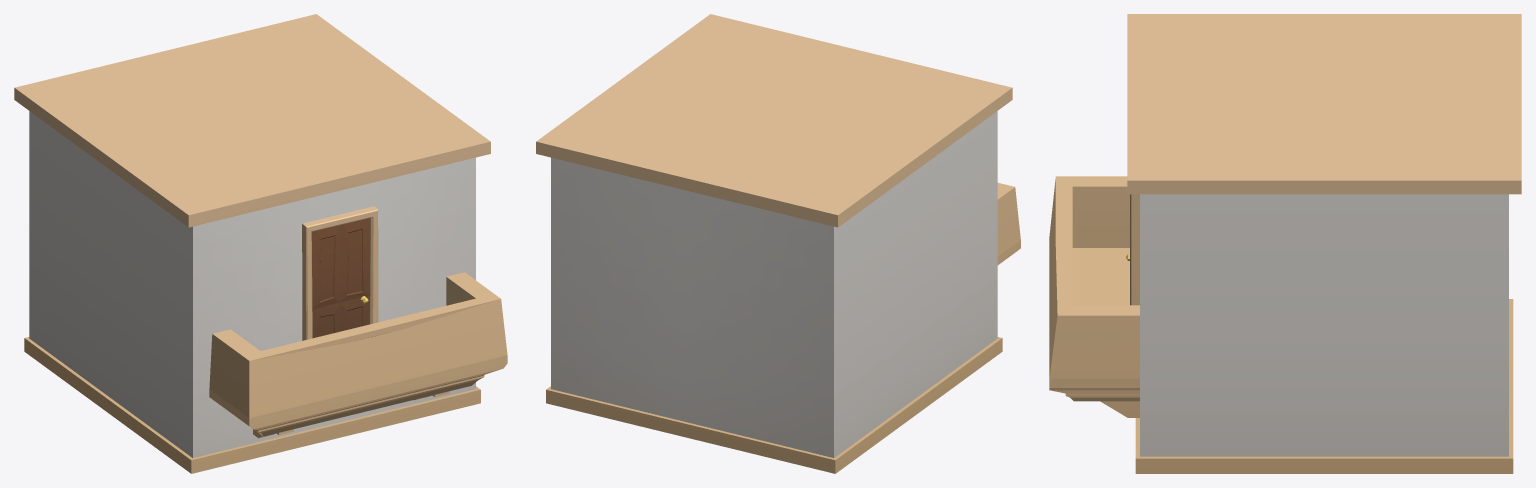
The model's file is Room 06.fbx.
3 views of the same model, side by side, from view 1: azimuth 30°, elevation 25°; view 2: azimuth 150°, elevation 25°; view 3: azimuth 270°, elevation 25° (orthographic). The views are drawn at different scales.
Parts seen in each view (by area): view 1: Room 06 high, Room 06 low, Room 06; view 2: Room 06 high, Room 06 low; view 3: Room 06 high, Room 06 low, Room 06.
Boxes of the visible parts, x1,y1,x2,y2 form: Room 06 high: [14, 14, 507, 473]; Room 06 low: [209, 229, 507, 436]; Room 06: [249, 218, 506, 432]; Room 06 high: [536, 14, 1020, 473]; Room 06 low: [997, 187, 1020, 256]; Room 06 high: [1049, 14, 1521, 473]; Room 06 low: [1049, 179, 1139, 401]; Room 06: [1056, 177, 1129, 314].
Size of the model in its own units: 4 by 3.33 by 4.79.
Materials: 1 (1 with a texture image).
